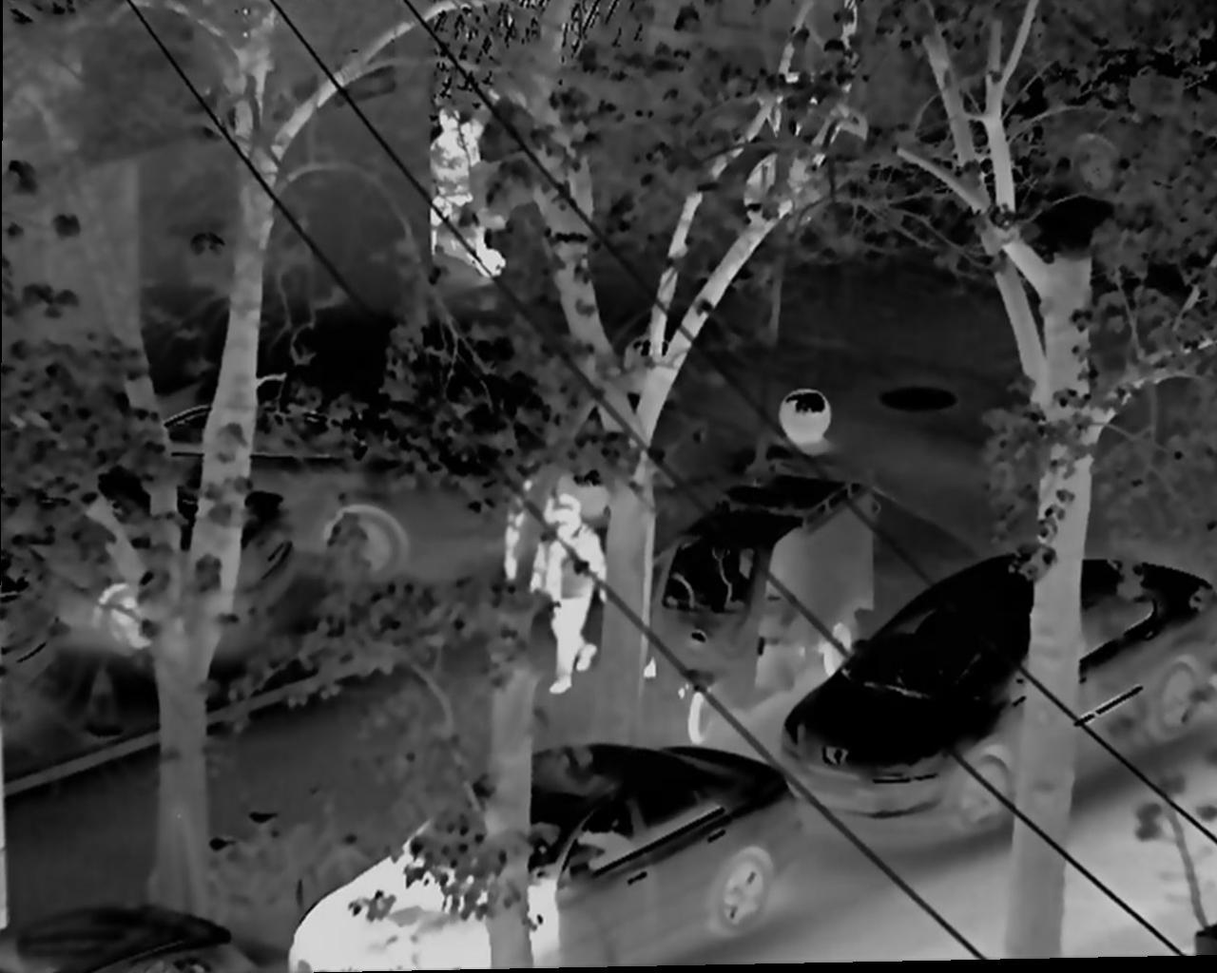person: (540, 503, 613, 683), (423, 100, 492, 265), (498, 483, 554, 649)
